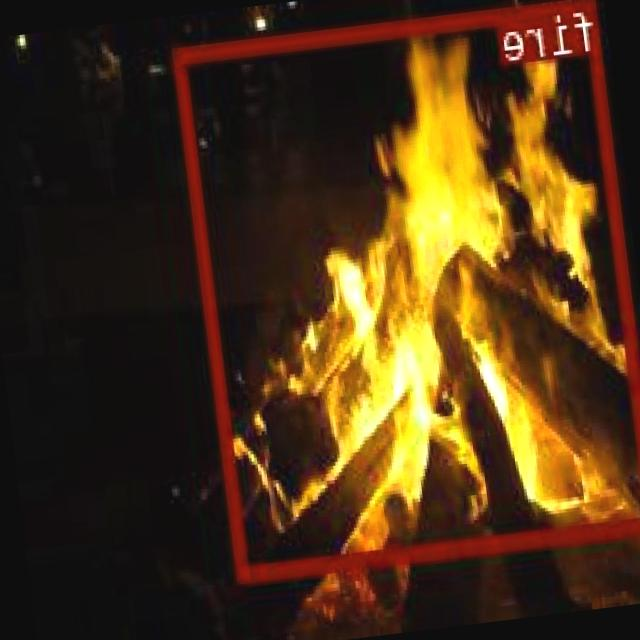fire: (175, 0, 640, 580)
